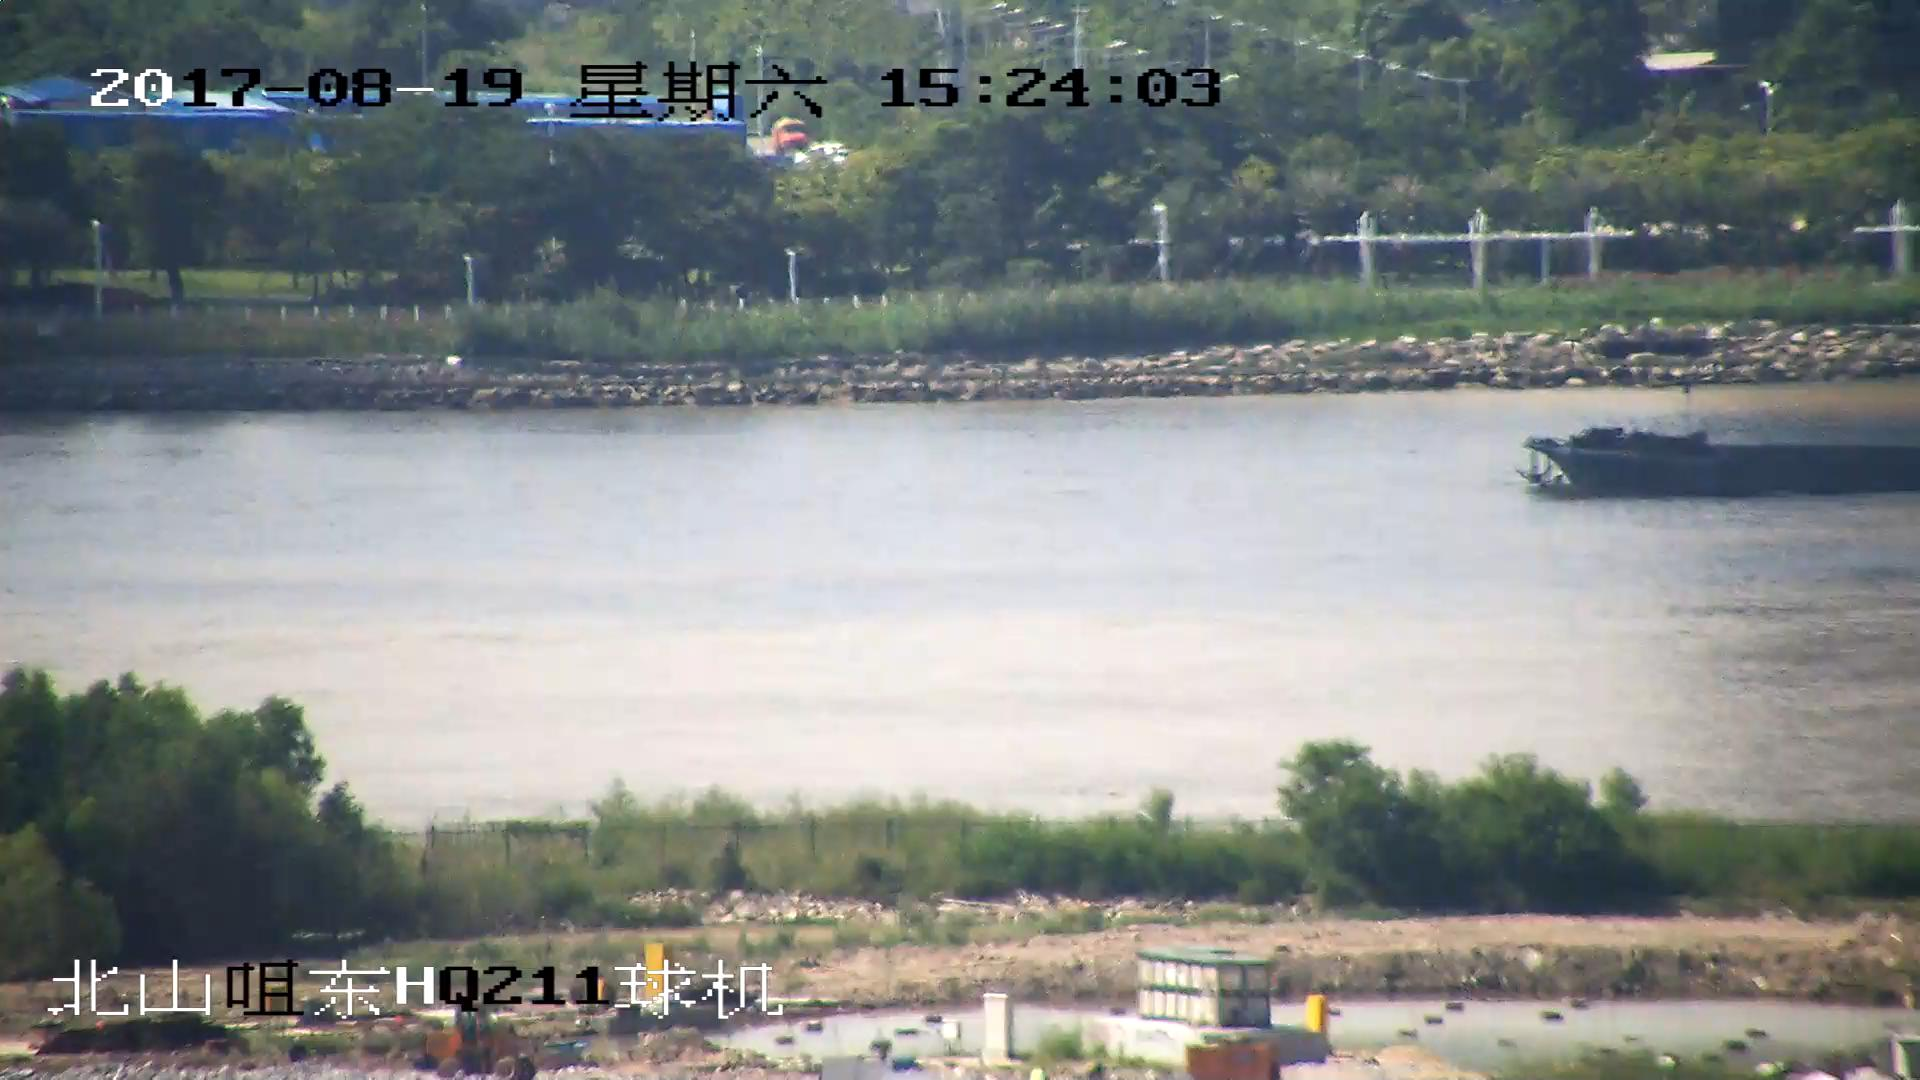ore carrier: (1516, 414, 1920, 505)
